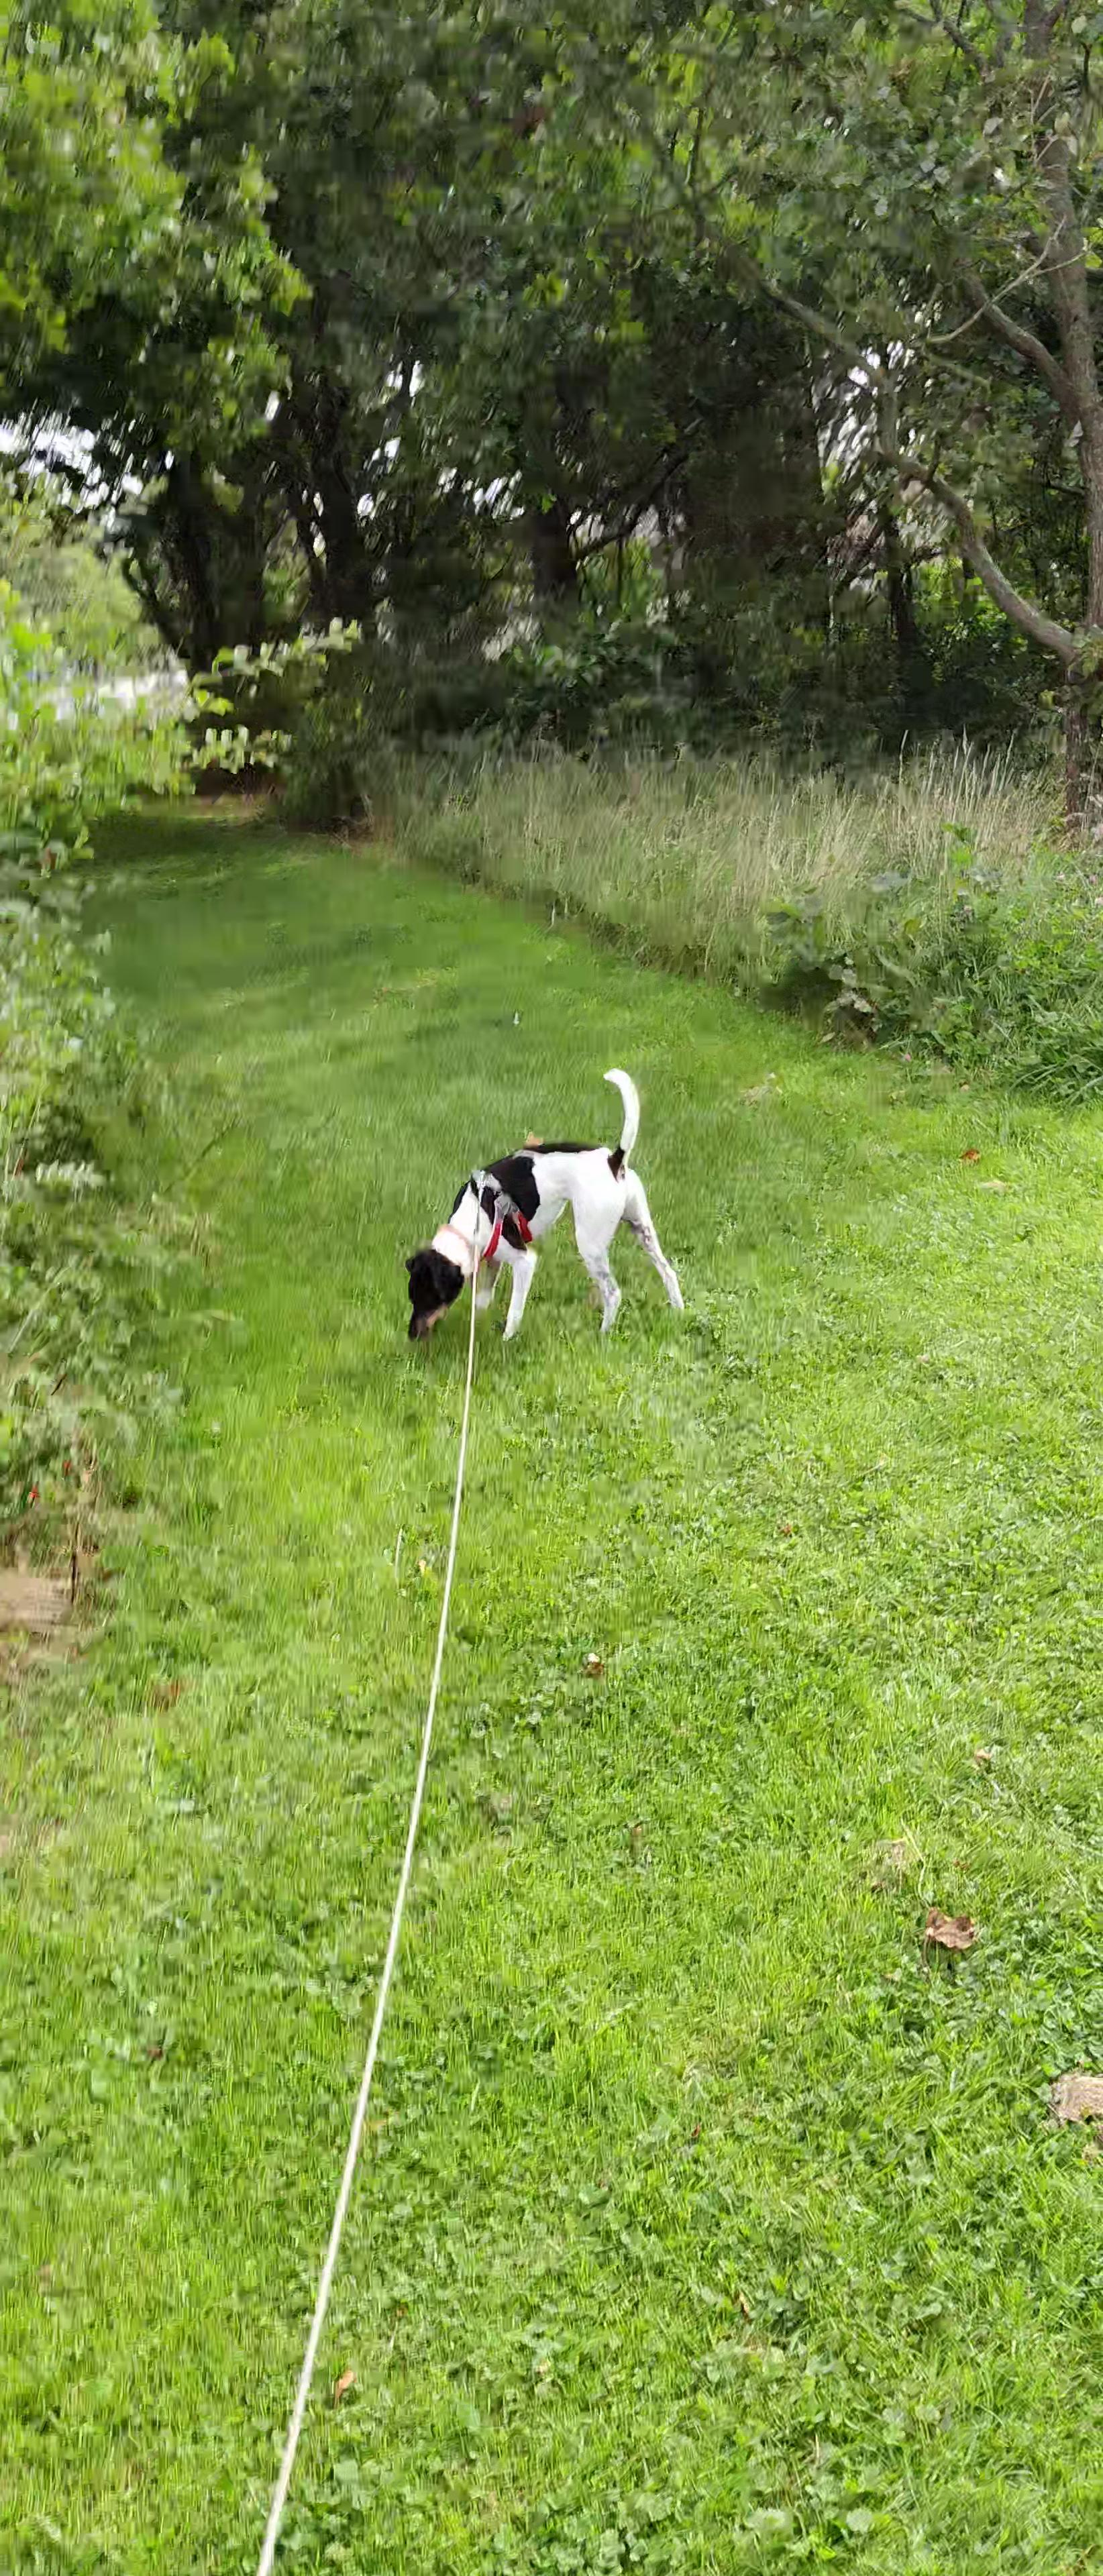Dog: (395, 1061, 690, 1345)
